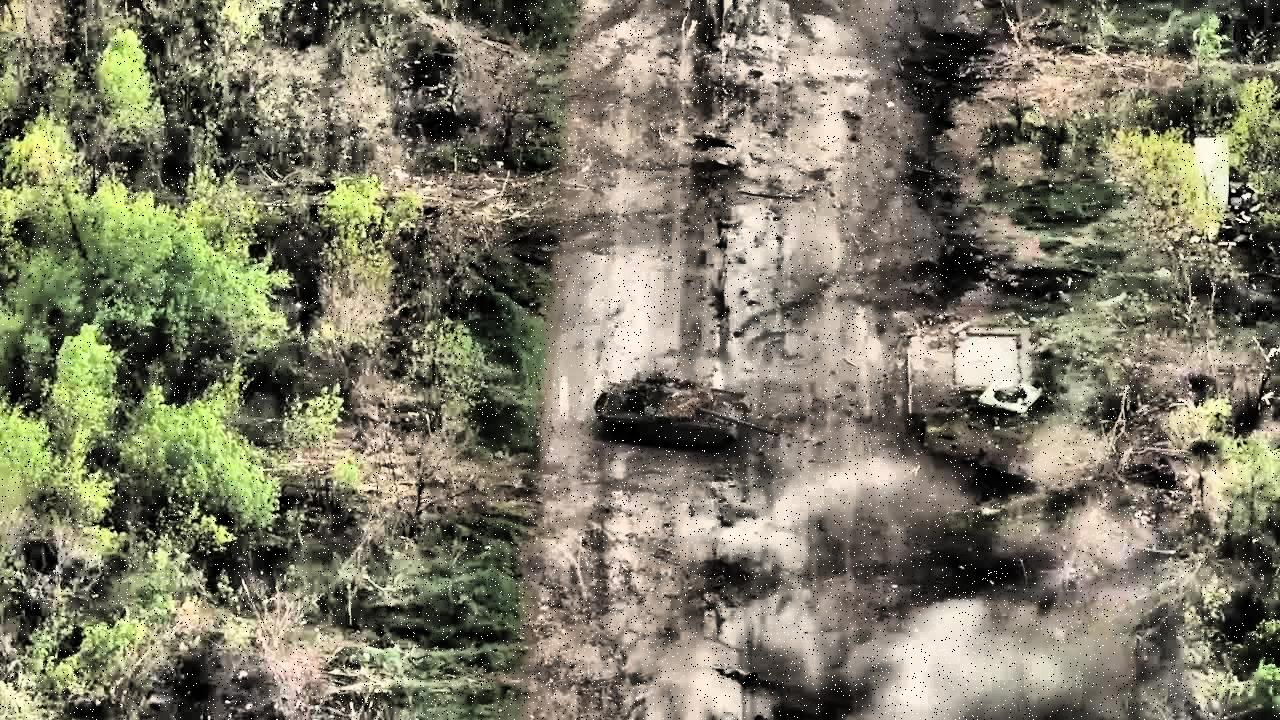military-vehicle: (593, 370, 780, 452)
